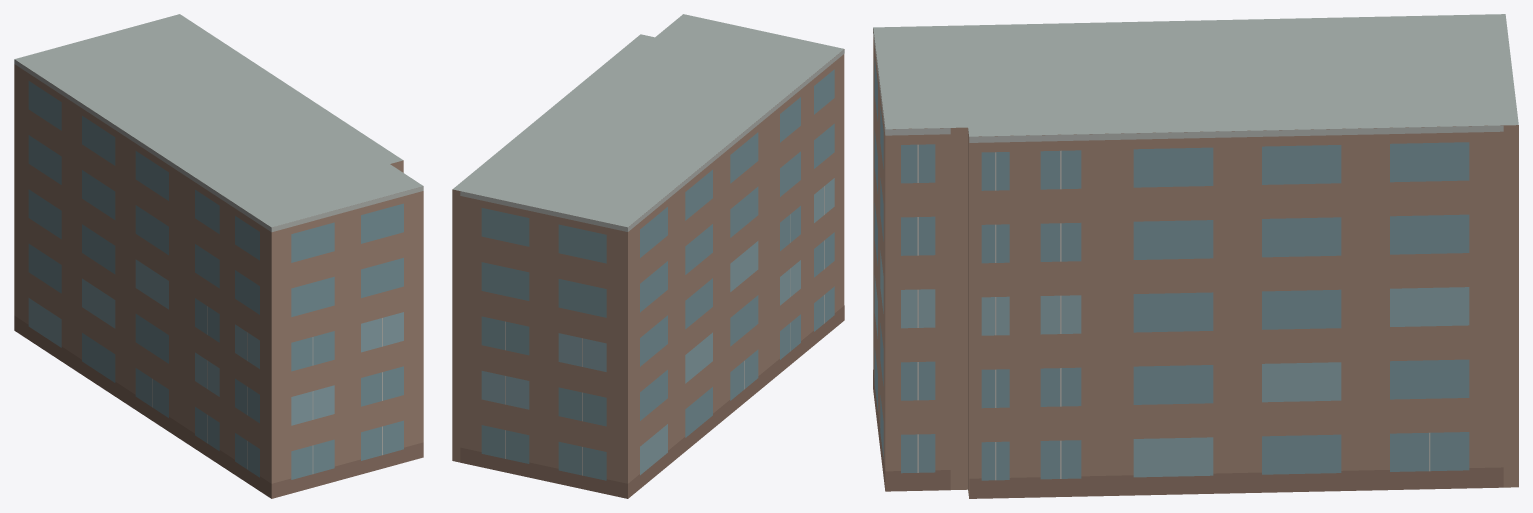
File: survey-upis-32991468.glb
The picture shows the model from 3 angles, left to right: view 1: azimuth 30°, elevation 25°; view 2: azimuth 150°, elevation 25°; view 3: azimuth 270°, elevation 25°; orthographic projection. The views are drawn at different scales.
Parts seen in each view (by area): view 1: survey-upis-32991468.tmp; view 2: survey-upis-32991468.tmp; view 3: survey-upis-32991468.tmp.
Part boxes in pixels (<box>): survey-upis-32991468.tmp: <box>14,14,423,498</box>; survey-upis-32991468.tmp: <box>452,14,844,498</box>; survey-upis-32991468.tmp: <box>873,14,1518,498</box>.
Bounding box in the file's own units: 10.1 × 13.9 × 22.46.
